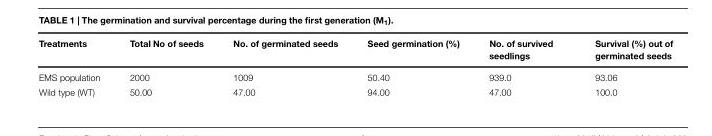table: (37, 37, 672, 96)
table column: (217, 37, 351, 96), (351, 37, 473, 96), (114, 37, 217, 96), (473, 37, 573, 96), (573, 37, 672, 96), (37, 37, 114, 96)
table column header: (37, 37, 672, 65)
table row: (37, 37, 672, 65), (37, 65, 672, 84), (37, 84, 672, 96)
